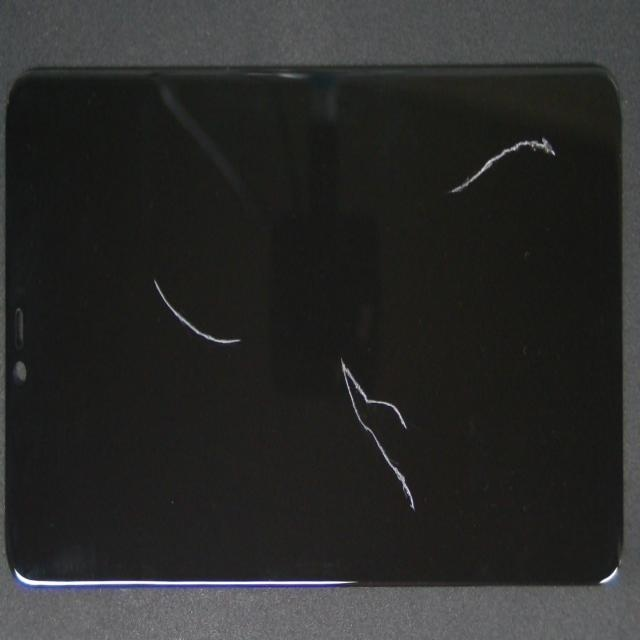scratch: (258, 377, 607, 640), (181, 213, 330, 470), (314, 101, 640, 207)
